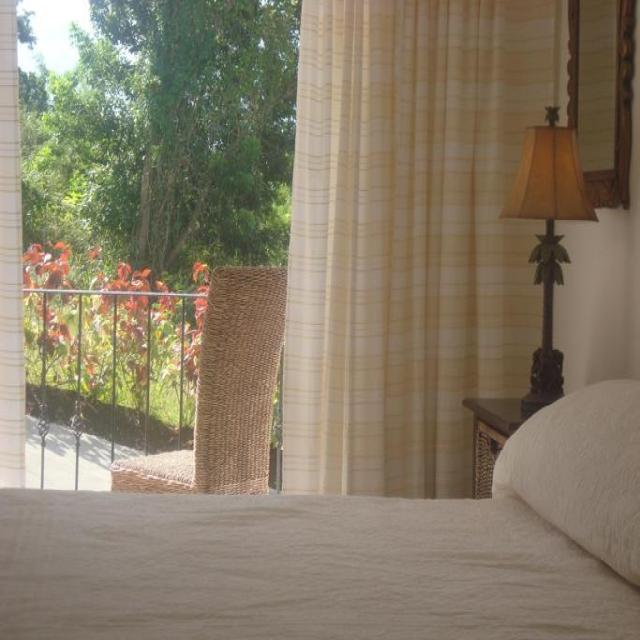chair: (110, 264, 288, 494)
curtains: (279, 0, 569, 498)
lamps: (496, 104, 598, 416)
pillows: (490, 377, 639, 588)
sofa: (0, 376, 639, 639)
table: (460, 395, 539, 499)
windows: (11, 0, 301, 492)
